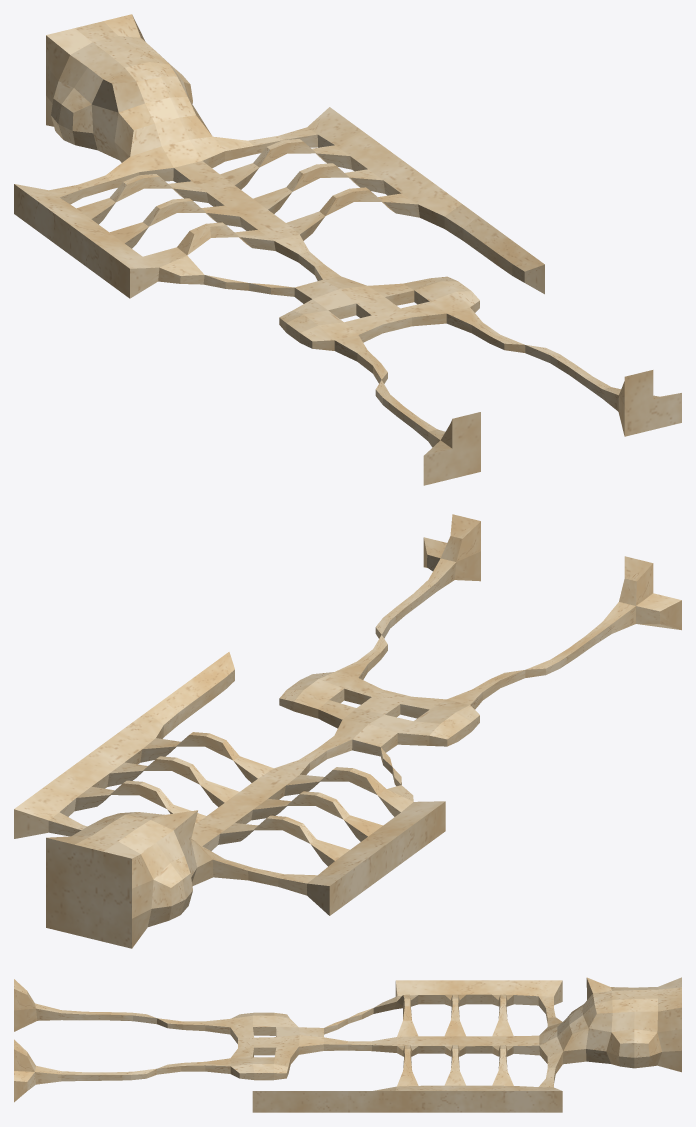
Rendered from skeleton.glb.
The picture shows the model from 3 angles, top to bottom: view 1: azimuth 30°, elevation 25°; view 2: azimuth 150°, elevation 25°; view 3: azimuth 270°, elevation 25°; orthographic projection. The views are drawn at different scales.
Visible parts, largest first — view 1: crypt_skeleton; view 2: crypt_skeleton; view 3: crypt_skeleton.
Part boxes in pixels (left/top/right/bottom): crypt_skeleton: left=14, top=14, right=681, bottom=485; crypt_skeleton: left=14, top=514, right=681, bottom=948; crypt_skeleton: left=14, top=977, right=681, bottom=1112.
Size of the model in its own units: 0.6875 by 0.1875 by 1.75.
1 material, 1 textured.
